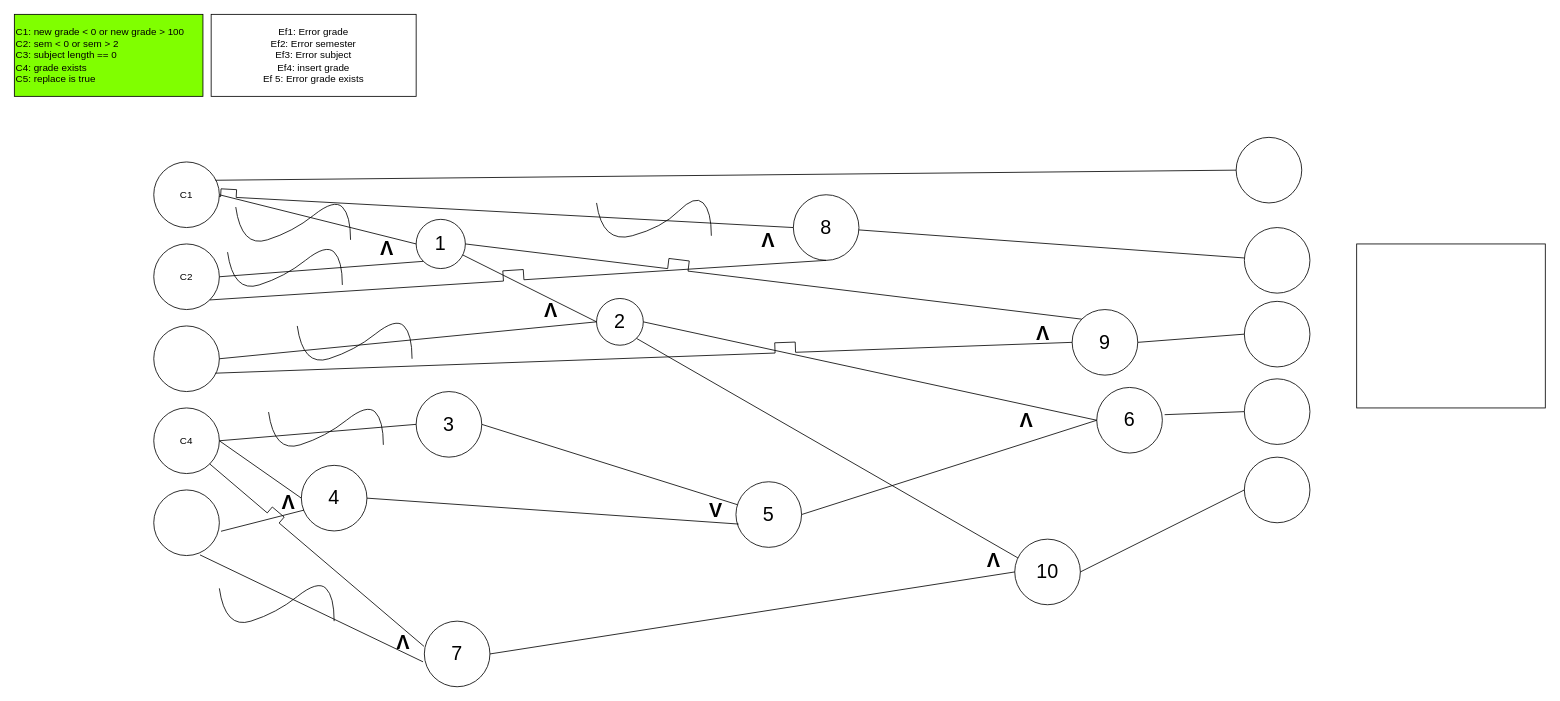
Image size: 1560x701. Some labels were removed from this diagram. Here are the shapes that lost their labels. From the top down, the centre of each, then its label:
At (x=1268, y=170): "Ef1".
At (x=1277, y=260): "Ef2".
At (x=1277, y=334): "Ef3".
At (x=1450, y=325): "ORICARE EFECT MASCHEAZA RESTUL EFECTELOR".
At (x=186, y=358): "C3".
At (x=1277, y=411): "Ef4".
At (x=1277, y=489): "Ef5".
At (x=186, y=522): "C5".
